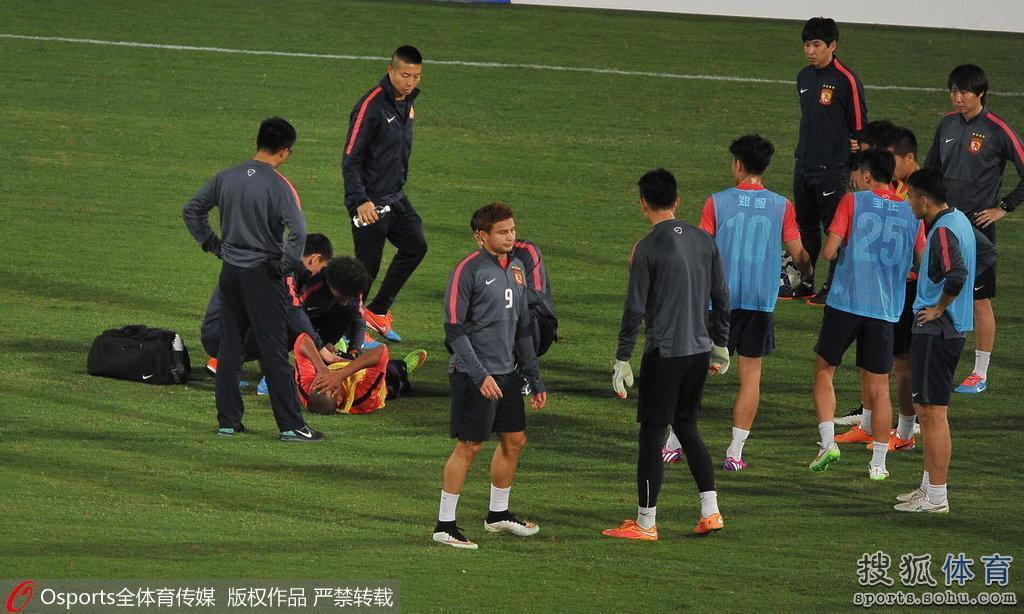Fall-Detected: (281, 328, 429, 422)
